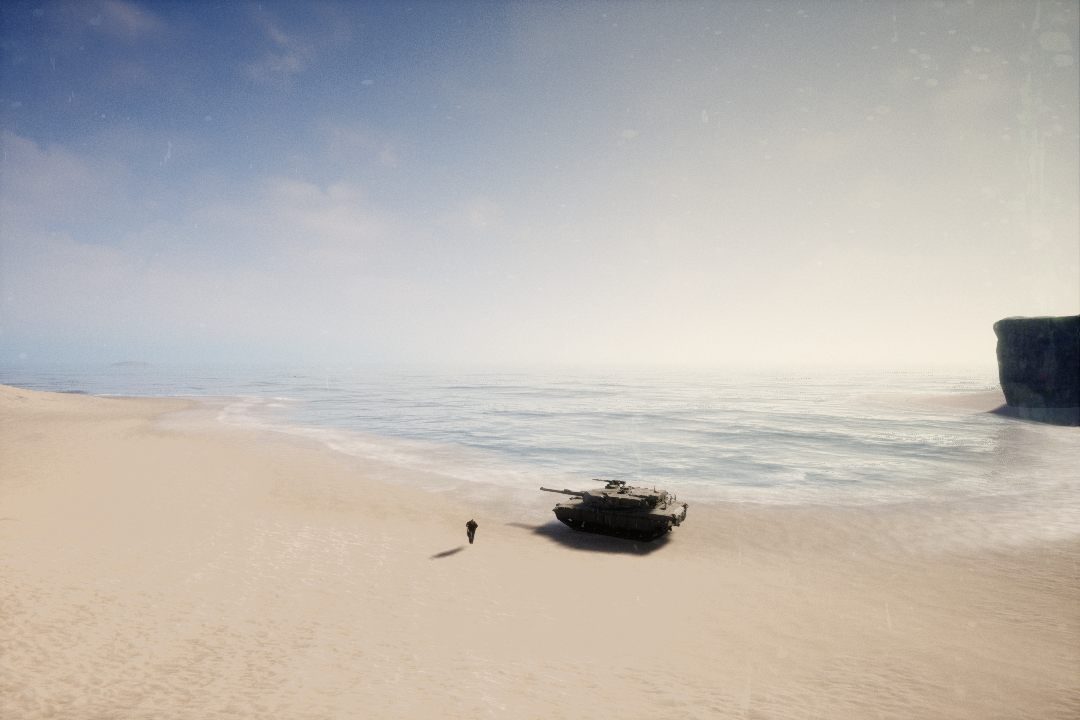person: (462, 516, 481, 546)
tank: (537, 474, 692, 542)
